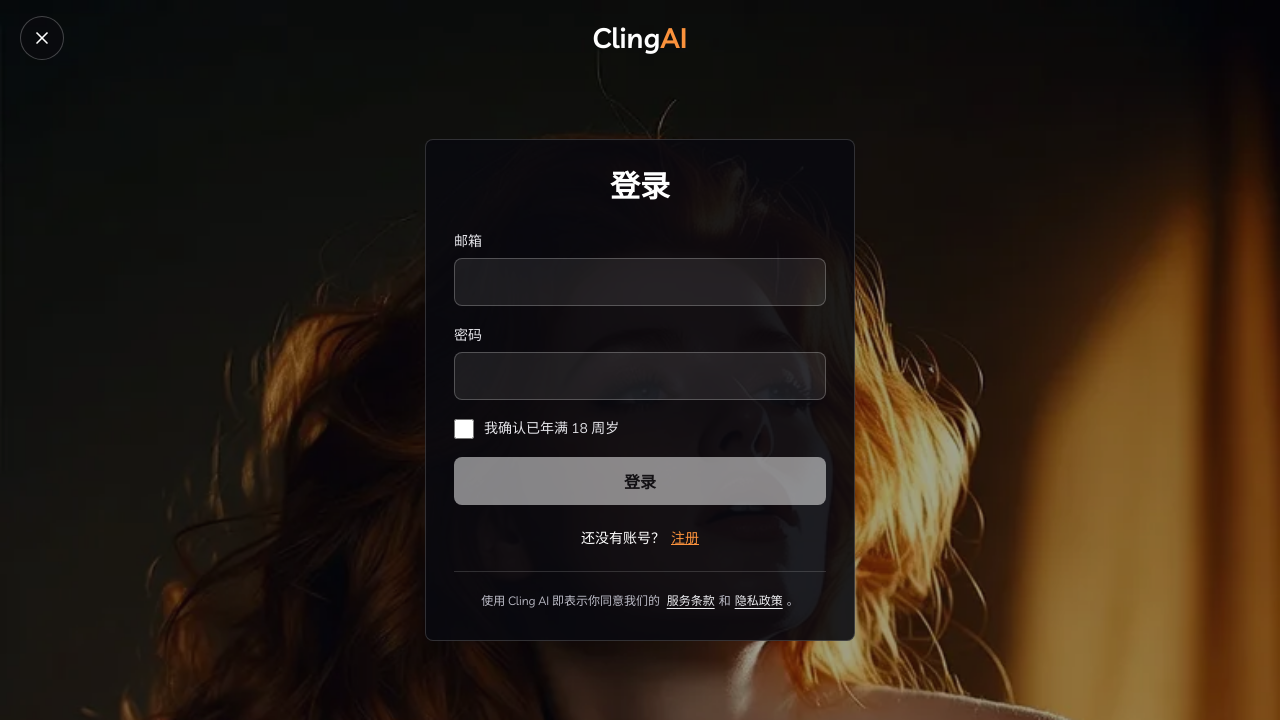
it: 认证页品牌布局与明确年龄确认 › 登录 后 /me 失败仍留在当前页
Step 1. Type "test@example.com" into the field labelled "邮箱" → (640, 282), box 454,258 -> 826,306
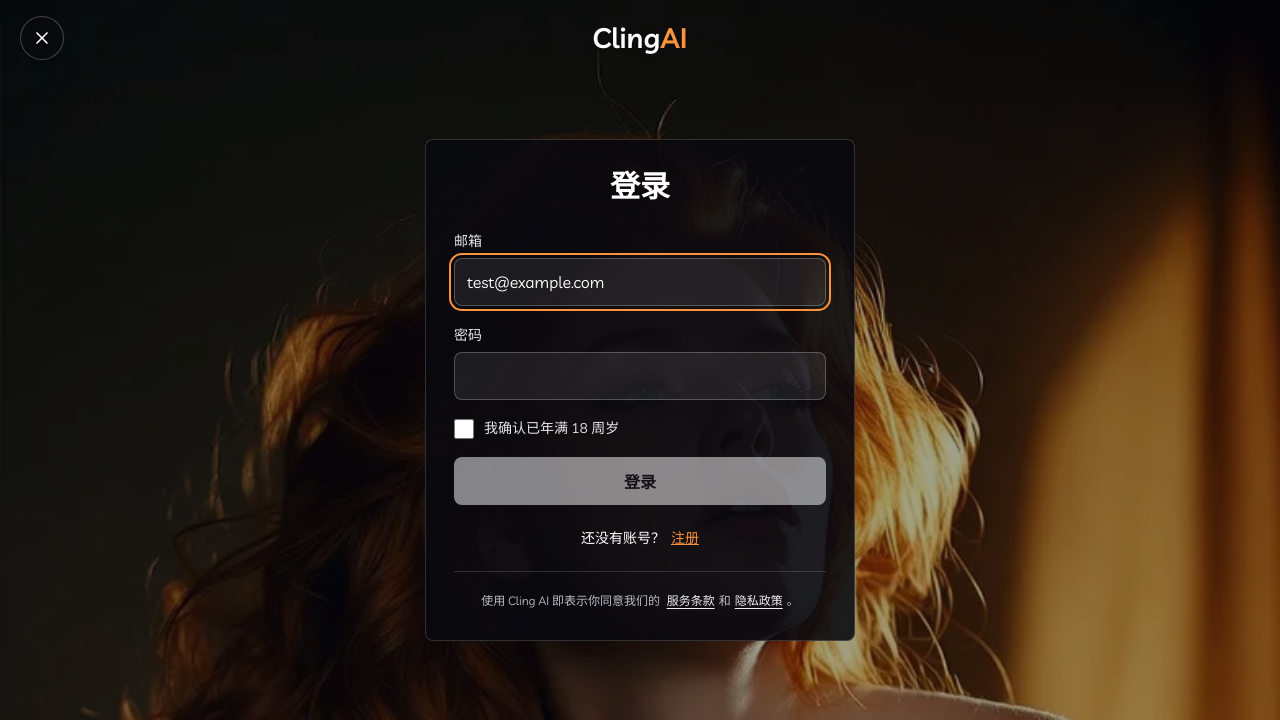
Step 2. Type "password123" into the password field labelled "密码" → (640, 376), box 454,352 -> 826,400
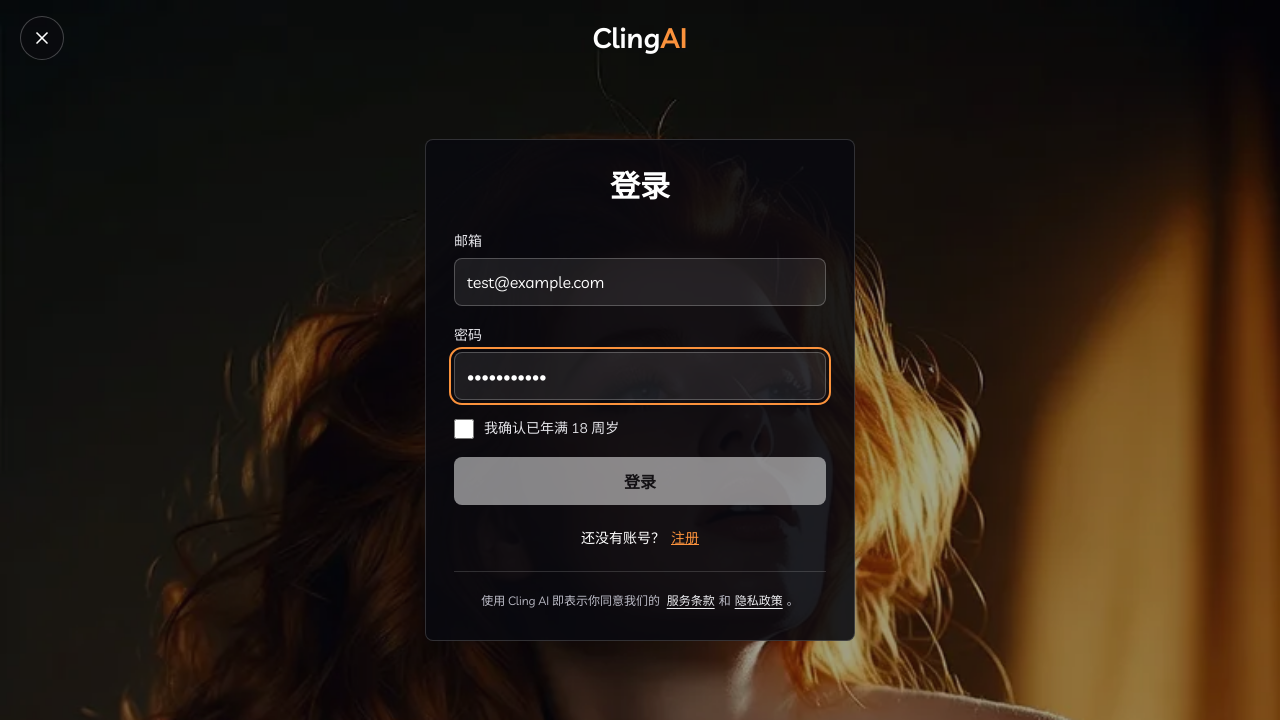
Step 3. Click the checkbox → (464, 429), box 454,419 -> 474,439
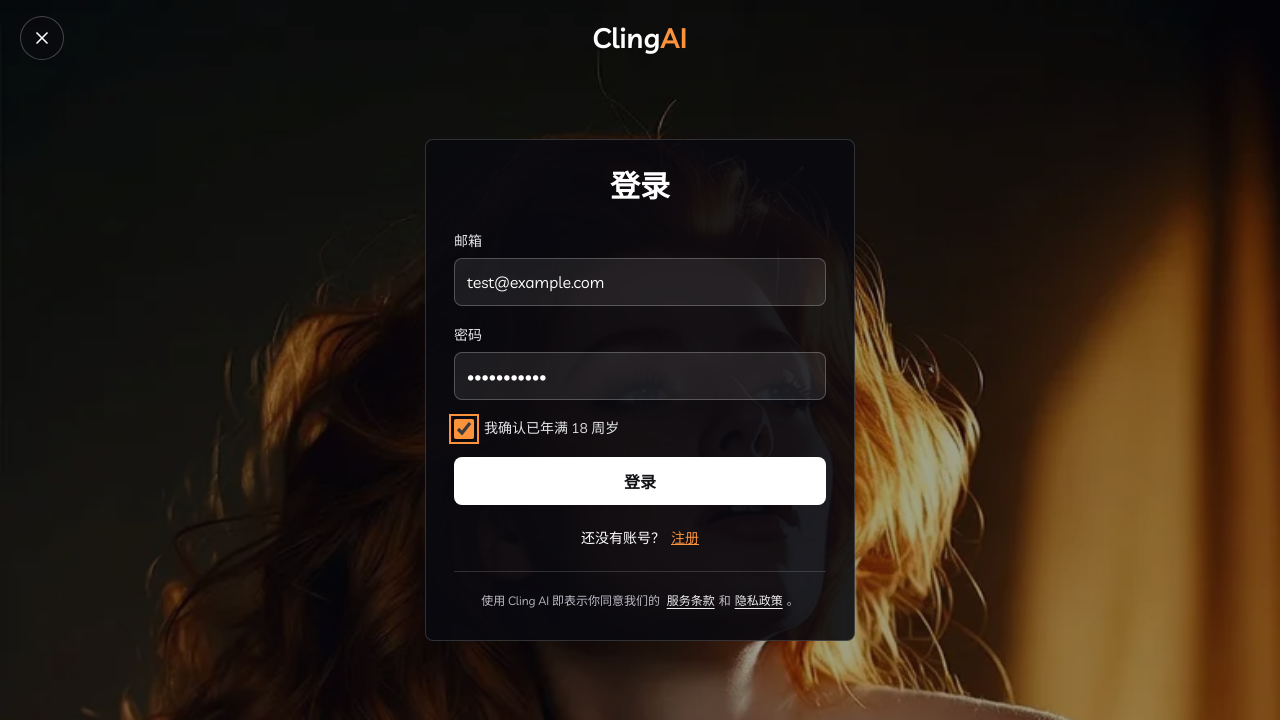
Step 4. Click the button "登录" → (640, 481), box 454,457 -> 826,505
(page scrolled)
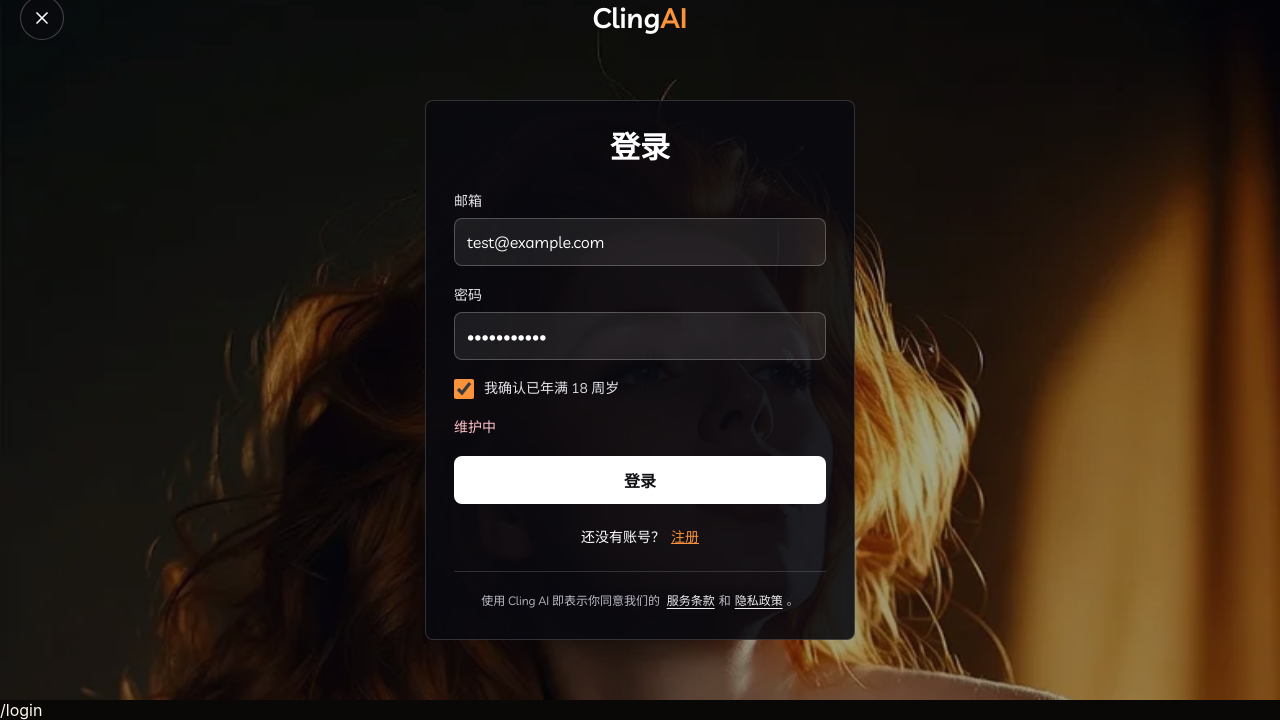
Check: the text with test id "auth-location" reads "/login", box 0,700 -> 42,719
Check: the message reads "维护中", box 454,418 -> 496,436
